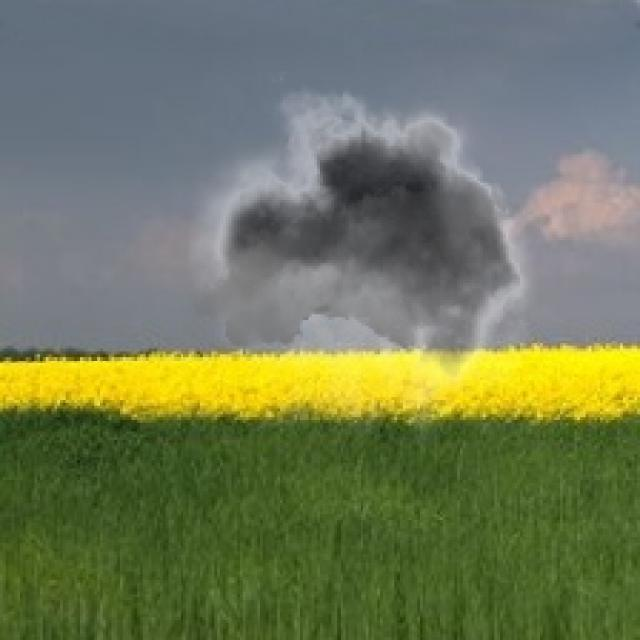smoke: (188, 71, 552, 448)
